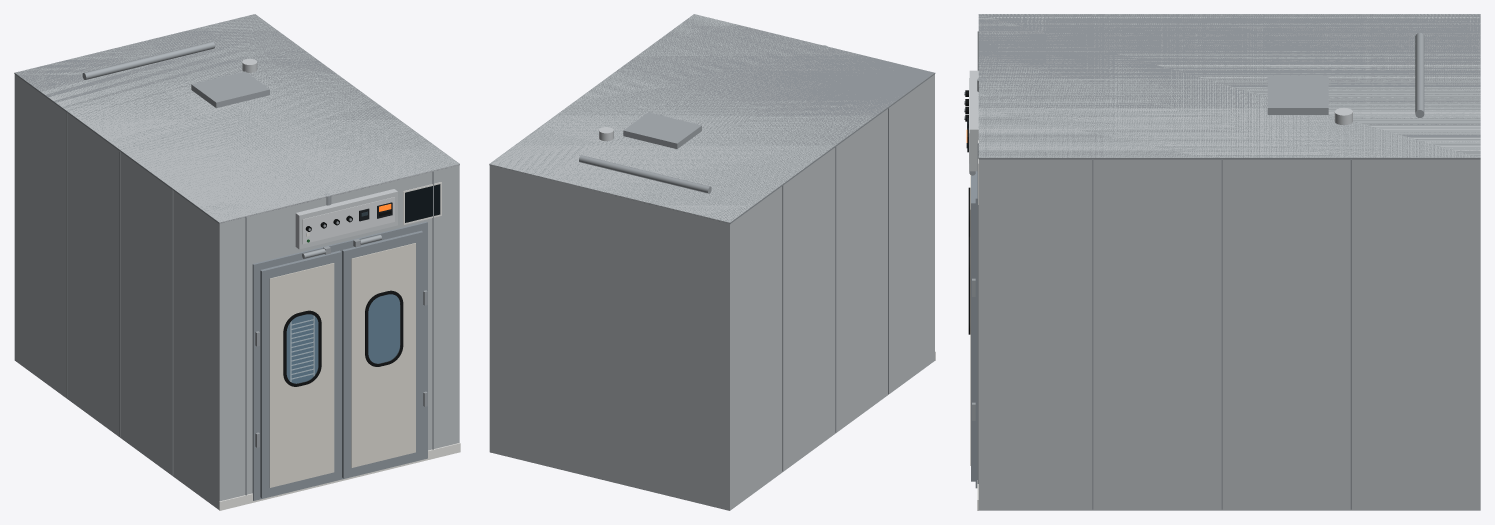
File: proofer-room.glb
The picture shows the model from 3 angles, left to right: view 1: azimuth 30°, elevation 25°; view 2: azimuth 150°, elevation 25°; view 3: azimuth 270°, elevation 25°; orthographic projection. The views are drawn at different scales.
Visible parts, largest first — view 1: корпус, кромка крыши, филёнка (×2), створка (×2), Расстоечная камера, коробка проёма, лицевая панель, короб на крыше, щит управления, цоколь, info-screen; view 2: корпус, кромка крыши, Расстоечная камера, короб на крыше; view 3: корпус, кромка крыши, Расстоечная камера, короб на крыше, створка, щит управления, коробка проёма.
Boxes of the visible parts, left/top/right/bottom form: корпус: left=14, top=14, right=459, bottom=509; кромка крыши: left=14, top=14, right=459, bottom=223; филёнка (×2): left=269, top=243, right=415, bottom=487; створка (×2): left=260, top=230, right=423, bottom=498; Расстоечная камера: left=66, top=41, right=433, bottom=495; коробка проёма: left=252, top=221, right=427, bottom=500; лицевая панель: left=302, top=197, right=394, bottom=244; короб на крыше: left=191, top=71, right=269, bottom=108; щит управления: left=295, top=189, right=397, bottom=249; цоколь: left=219, top=443, right=460, bottom=510; info-screen: left=405, top=184, right=440, bottom=222; корпус: left=489, top=14, right=934, bottom=510; кромка крыши: left=489, top=14, right=935, bottom=223; Расстоечная камера: left=579, top=45, right=888, bottom=471; короб на крыше: left=623, top=112, right=701, bottom=148; корпус: left=978, top=14, right=1480, bottom=510; кромка крыши: left=978, top=14, right=1480, bottom=159; Расстоечная камера: left=964, top=31, right=1424, bottom=509; короб на крыше: left=1267, top=76, right=1328, bottom=114; створка: left=971, top=174, right=975, bottom=481; щит управления: left=969, top=70, right=978, bottom=171; коробка проёма: left=975, top=171, right=977, bottom=488.
Bounding box in the file's own units: 2.24 × 2.63 × 3.39.
